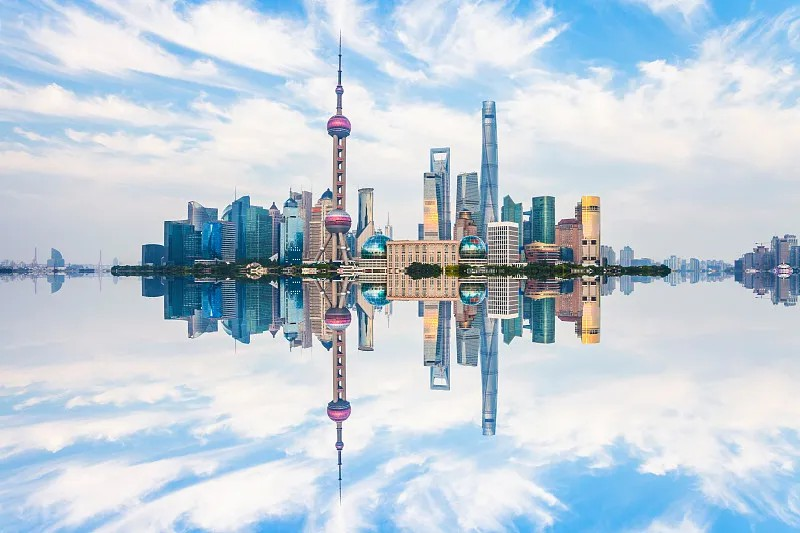Oriental: (314, 31, 354, 262)
